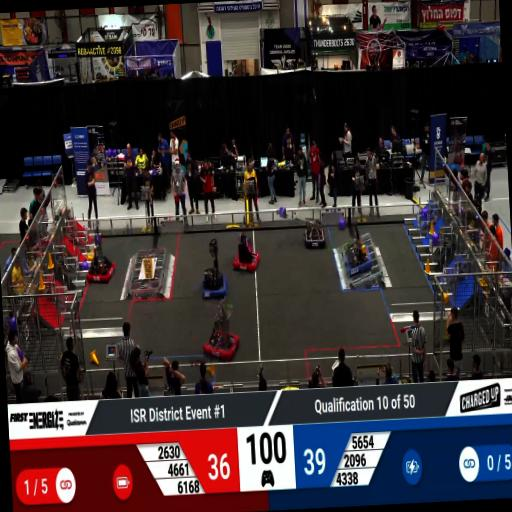robot: (202, 315, 242, 364), (84, 250, 118, 286), (199, 262, 228, 302), (230, 237, 262, 273), (346, 239, 372, 274), (302, 220, 326, 251)
